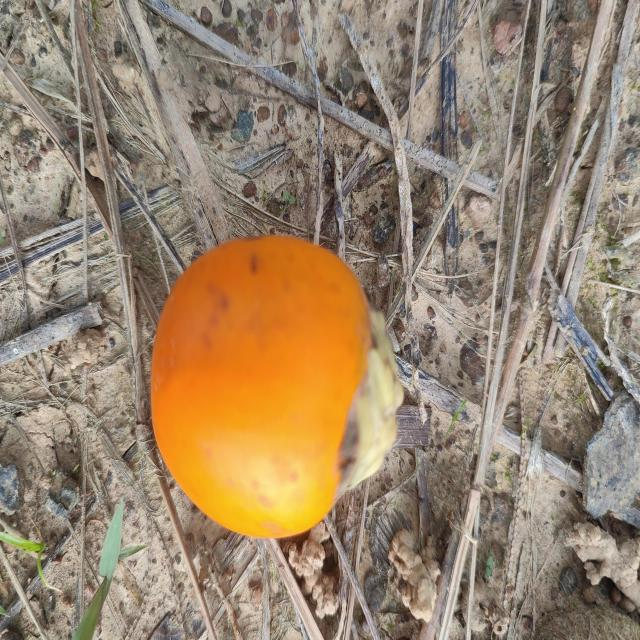good: (148, 236, 405, 542)
